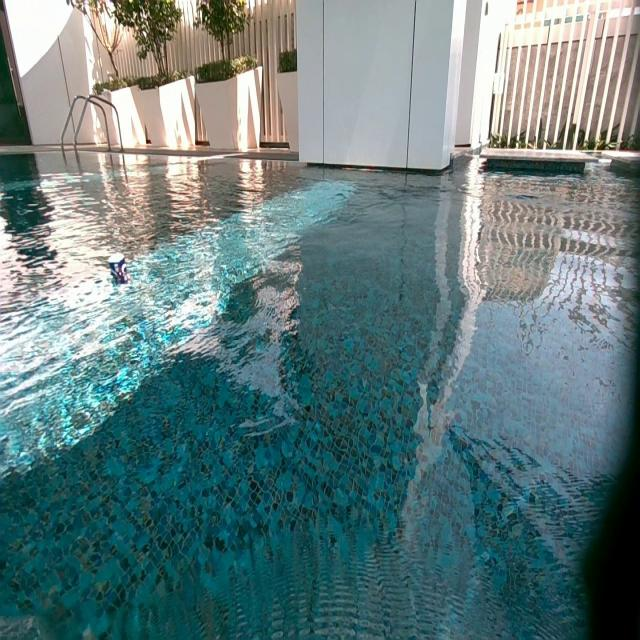Cans: (110, 253, 128, 283)
